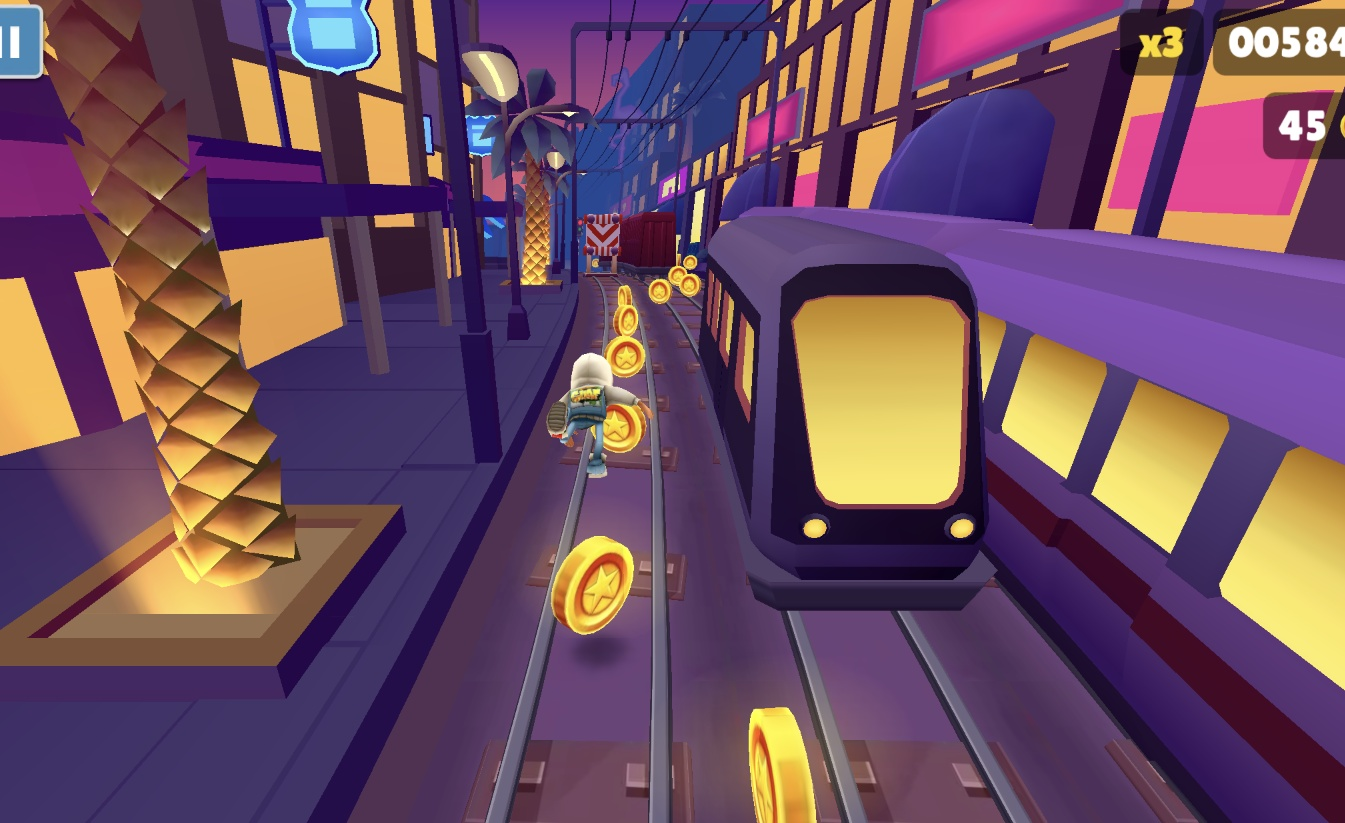overhead_barrier: (579, 212, 624, 278)
train: (736, 205, 1345, 823), (699, 215, 999, 611), (620, 211, 679, 284)
